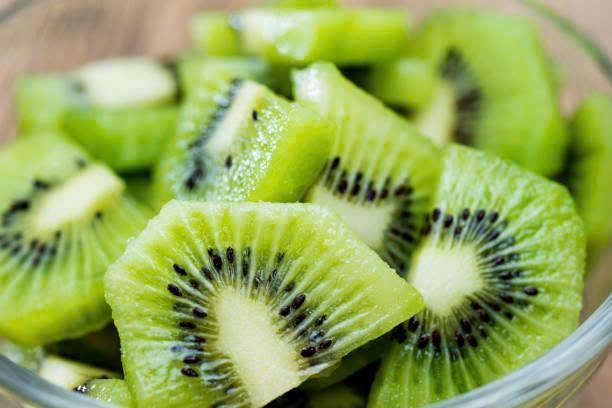kiwi: (118, 206, 418, 402), (390, 141, 590, 406), (159, 72, 405, 206)
